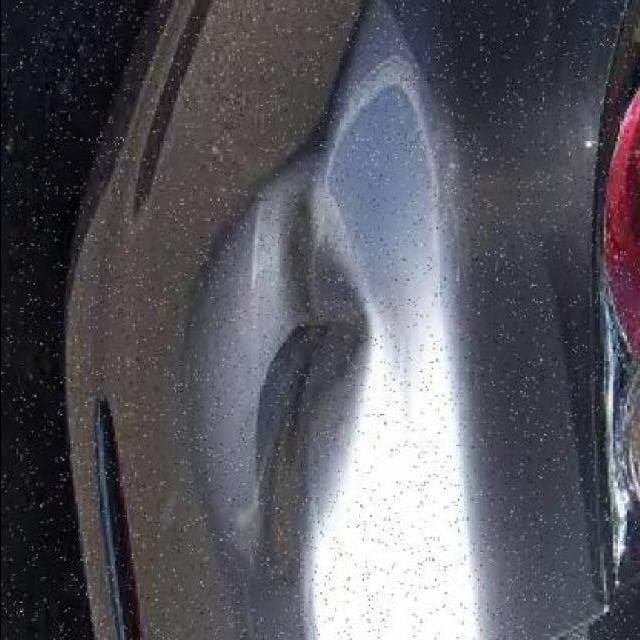rear-bumper-dent: (48, 0, 507, 637)
